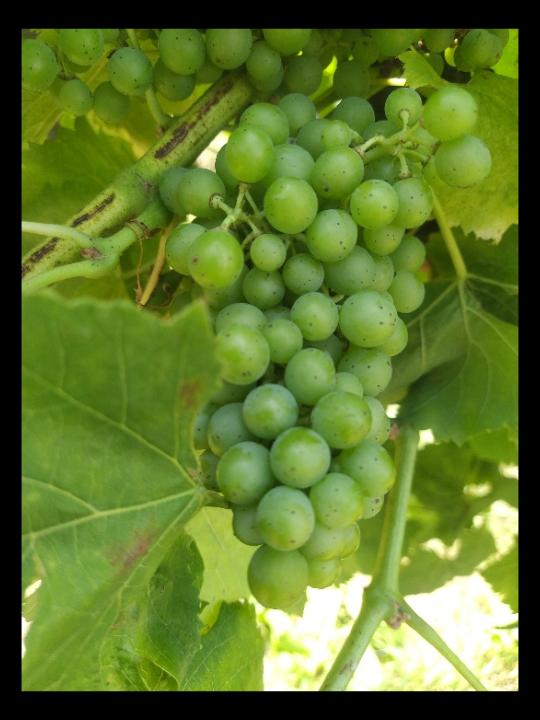grape: (152, 84, 496, 612)
